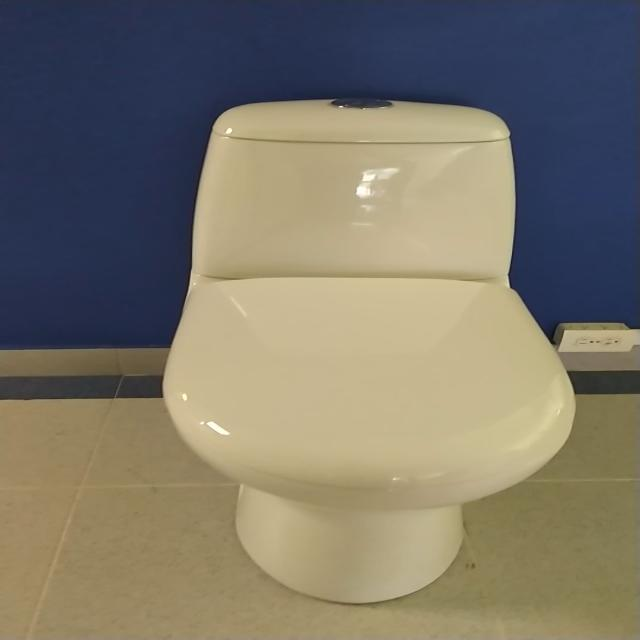toilet: (160, 97, 576, 604)
